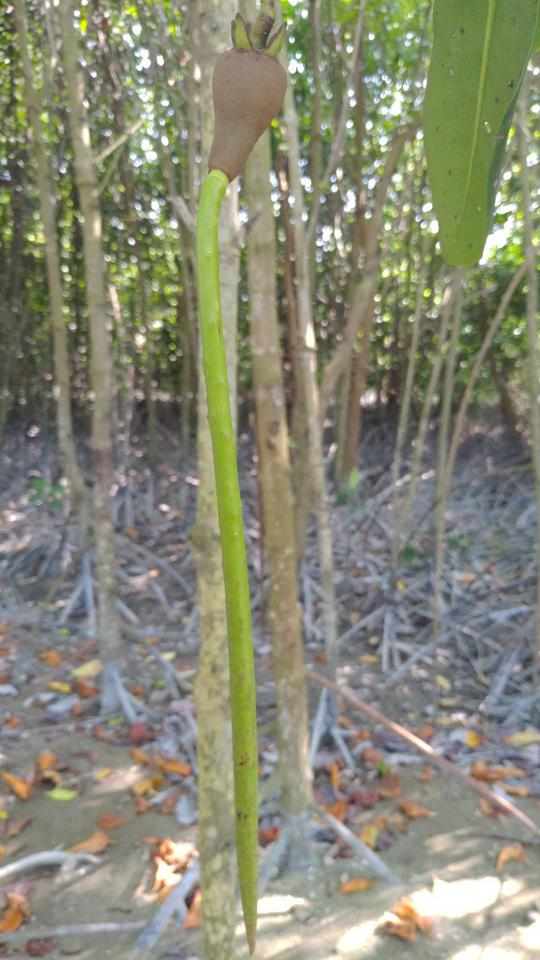setengah matang: (189, 10, 307, 947)
